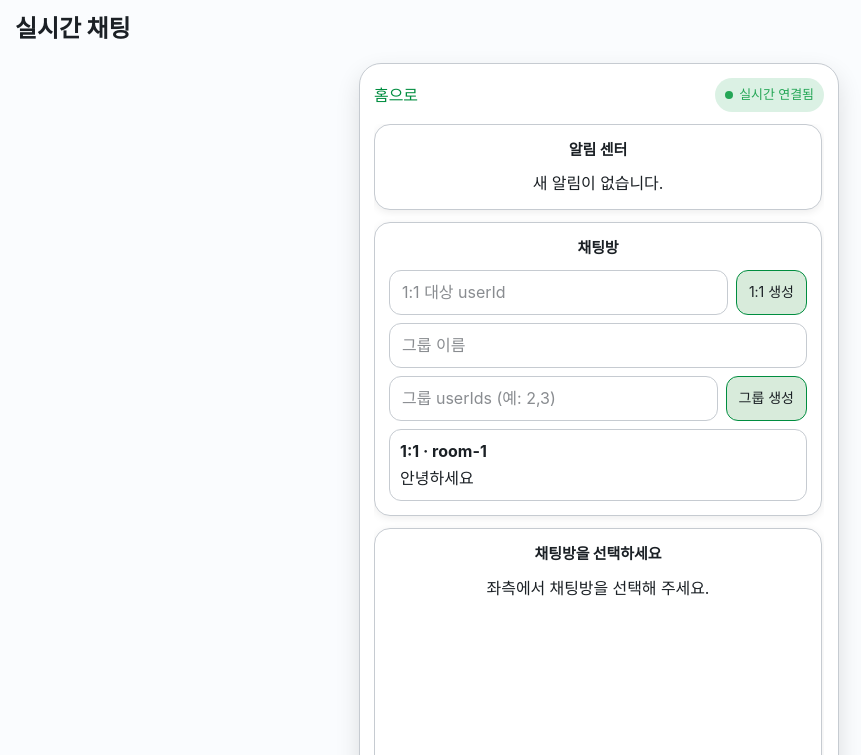
Test: ChatPage smoke checklist › SMOKE-CHAT-001: 방 생성 + 방 입장 플로우가 동작한다
This screenshot has width=861, height=755.
Step 1. Type "2" into the number field with placeholder "1:1 대상 userId" → point(558, 292), box [389, 270, 728, 315]
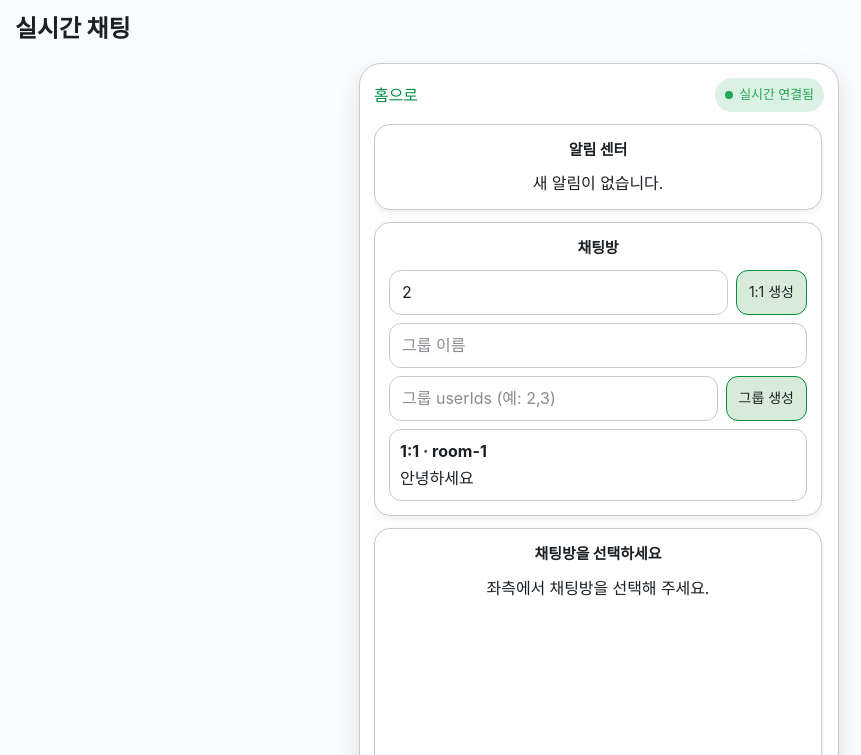
Step 2. Click the button "1:1 생성" → point(771, 292), box [736, 270, 807, 315]
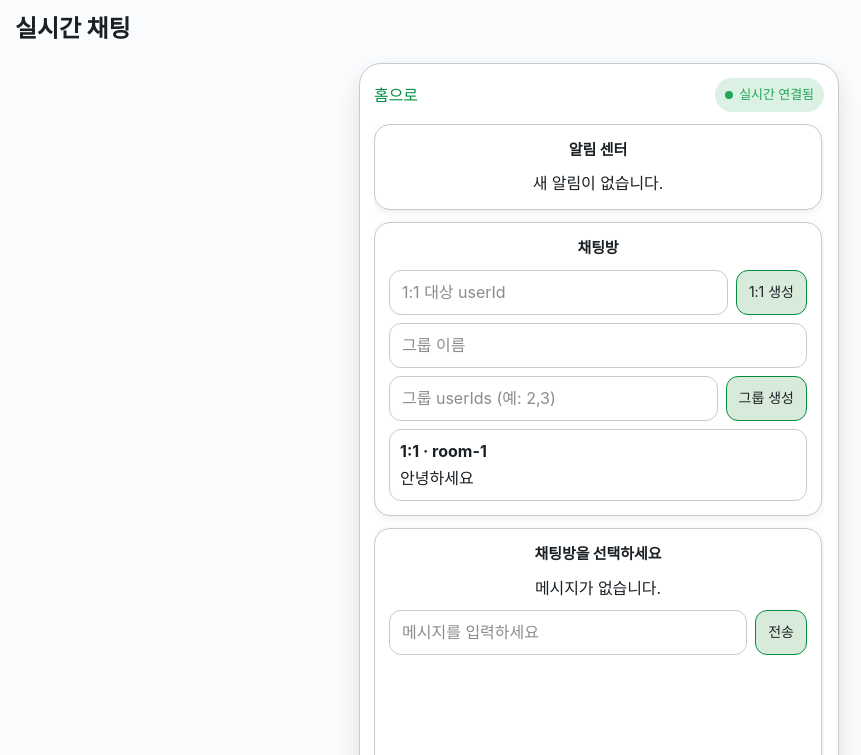
Step 3. Click the button "1:1 · room-1 안녕하세요" → point(459, 451), box [389, 429, 807, 502]
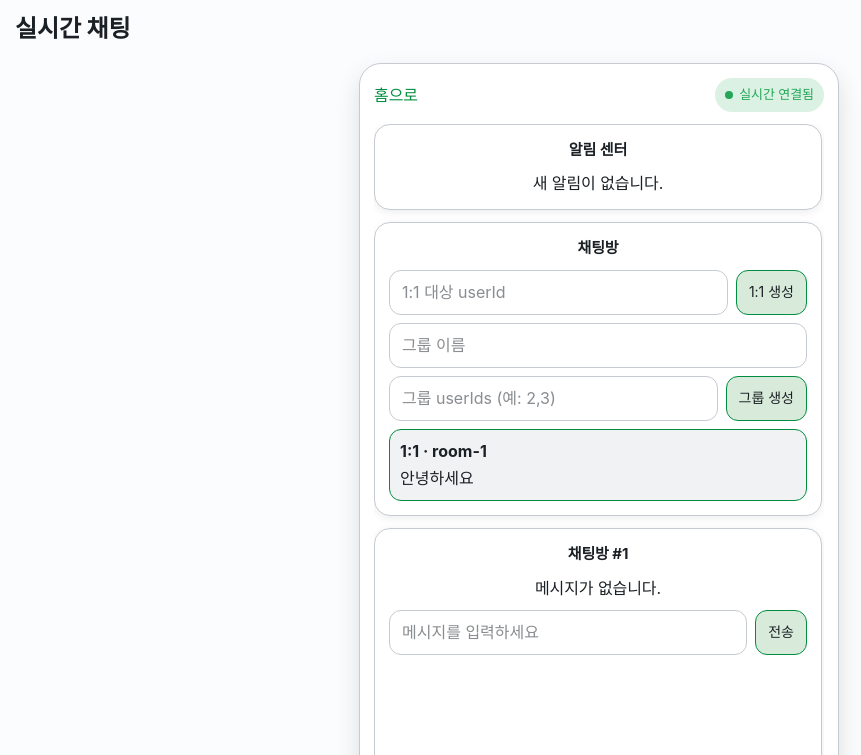
Check: the heading "채팅방 #1" is shown, box [568, 544, 628, 563]
